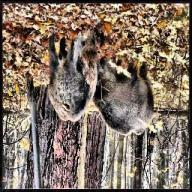boar: (91, 57, 155, 137), (46, 28, 98, 122)
